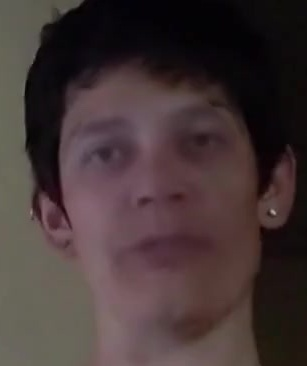eb_f: (61, 93, 254, 176)
